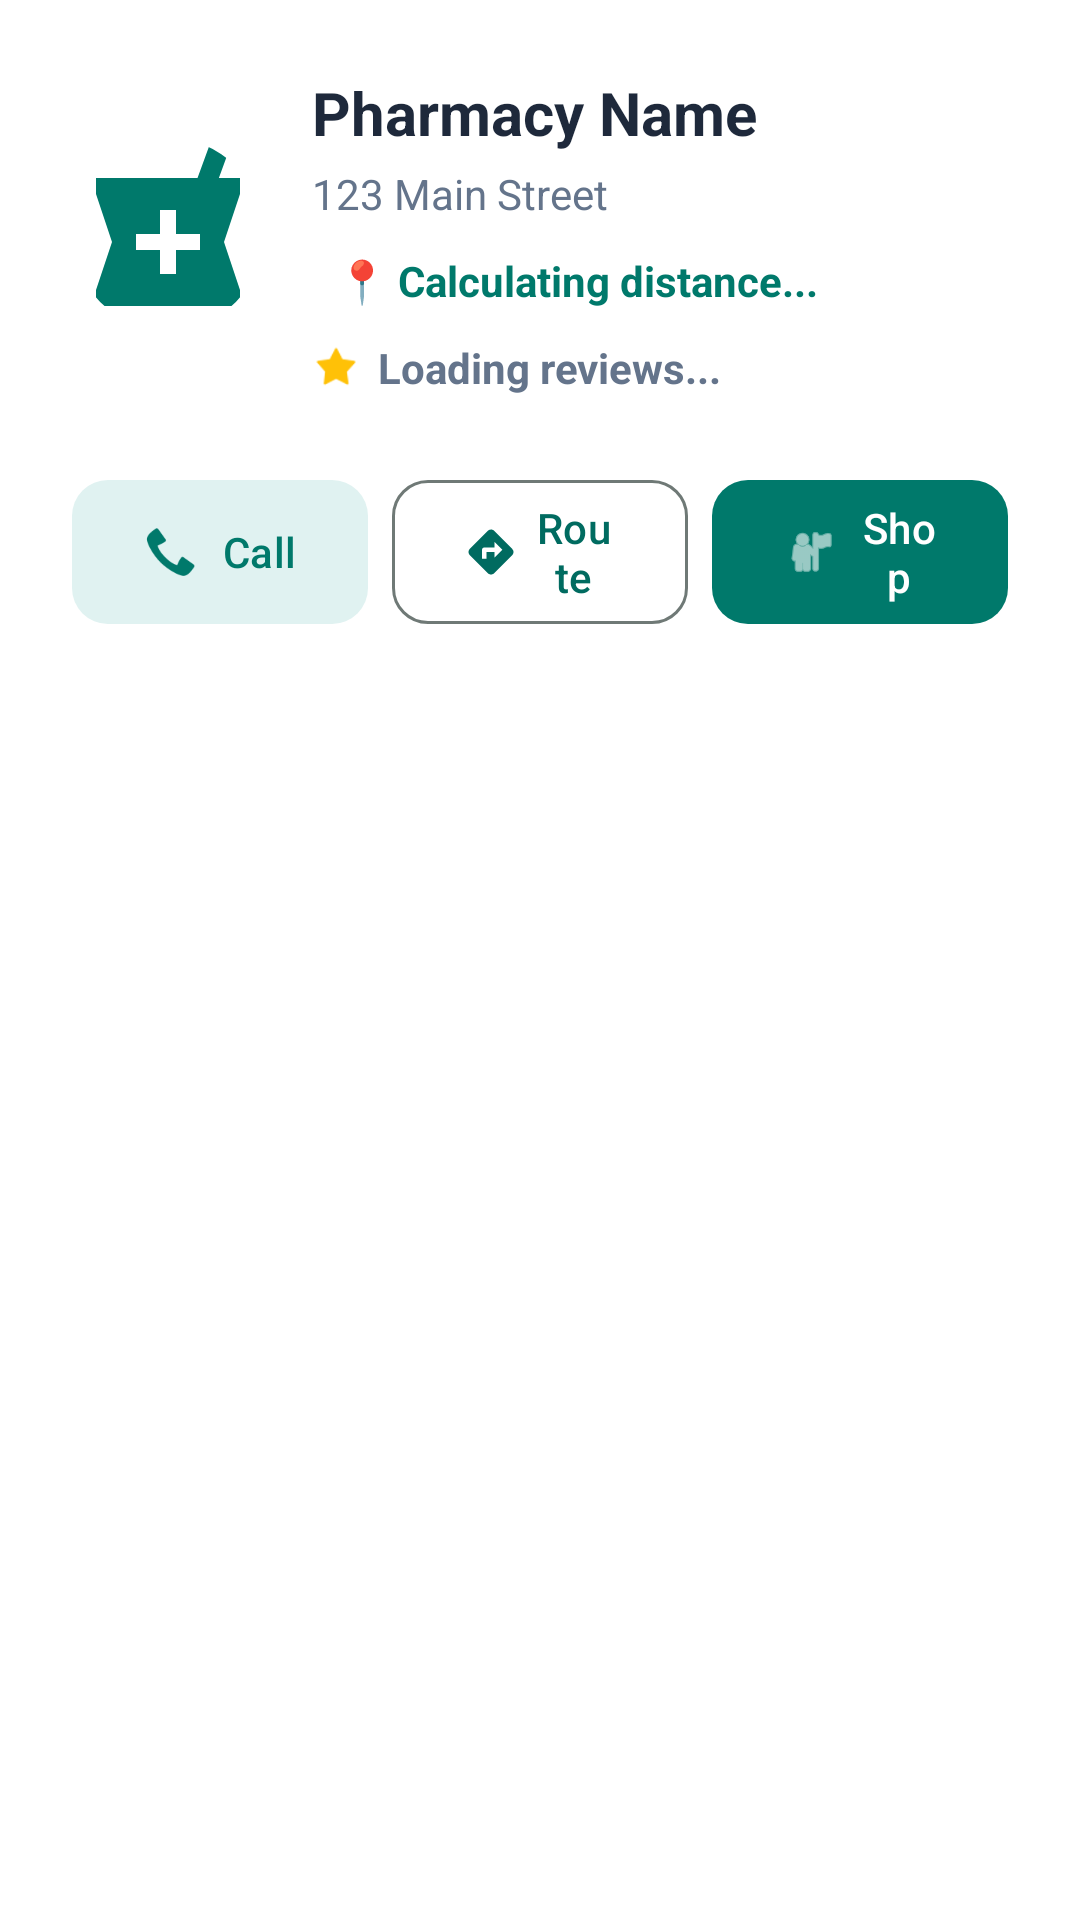

Where icons sit on this 1080px x 1920px app screen, as (x1, y1, x2, y2):
local pharmacy: (96, 147, 240, 306)
star on: (316, 347, 356, 385)
